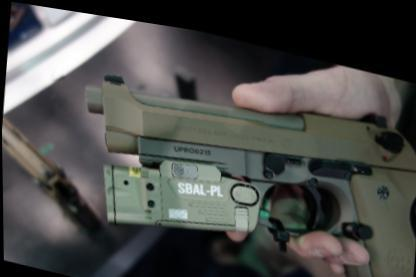pistol: (67, 37, 415, 275)
